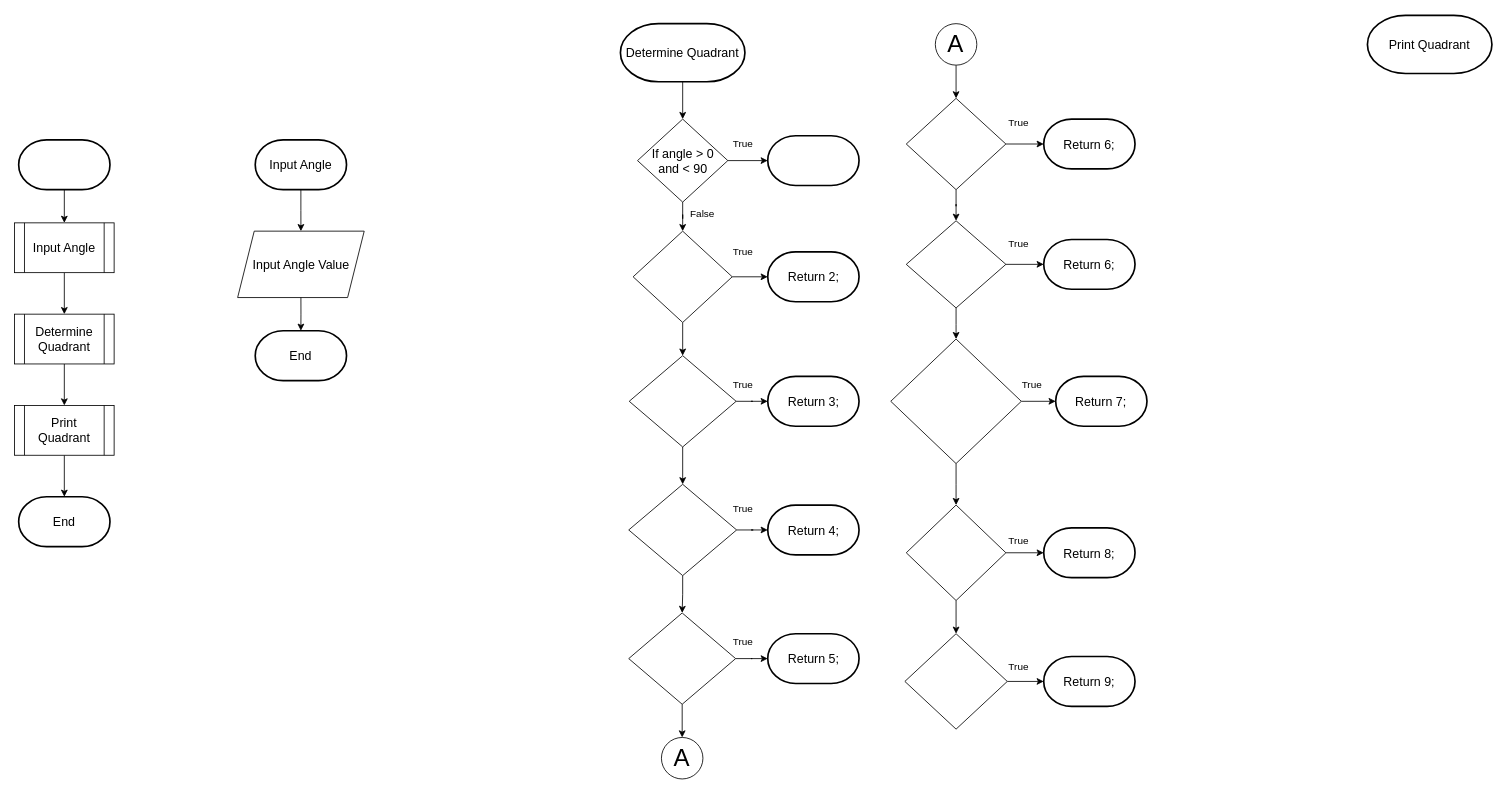
The diagram is 1507 pixels wide and 793 high, and some of its shapes have lost their labels. The box of each missing label's shape, as (x1, y1, x2, y2) in pixels:
Begin: (17, 139, 110, 190)
If angle < 0: (904, 633, 1007, 729)
If angle == 180: (905, 98, 1006, 190)
If angle == 270: (905, 220, 1006, 308)
If angle == 360 or angle == 0: (890, 338, 1021, 464)
If angle == 90: (628, 612, 736, 704)
If angle > 180 and < 270: (628, 355, 736, 447)
If angle > 270 and < 360: (628, 483, 737, 576)
If angle > 360: (905, 504, 1006, 601)
If angle > 90 and < 180: (632, 230, 732, 322)
Return 1;: (767, 134, 859, 186)
